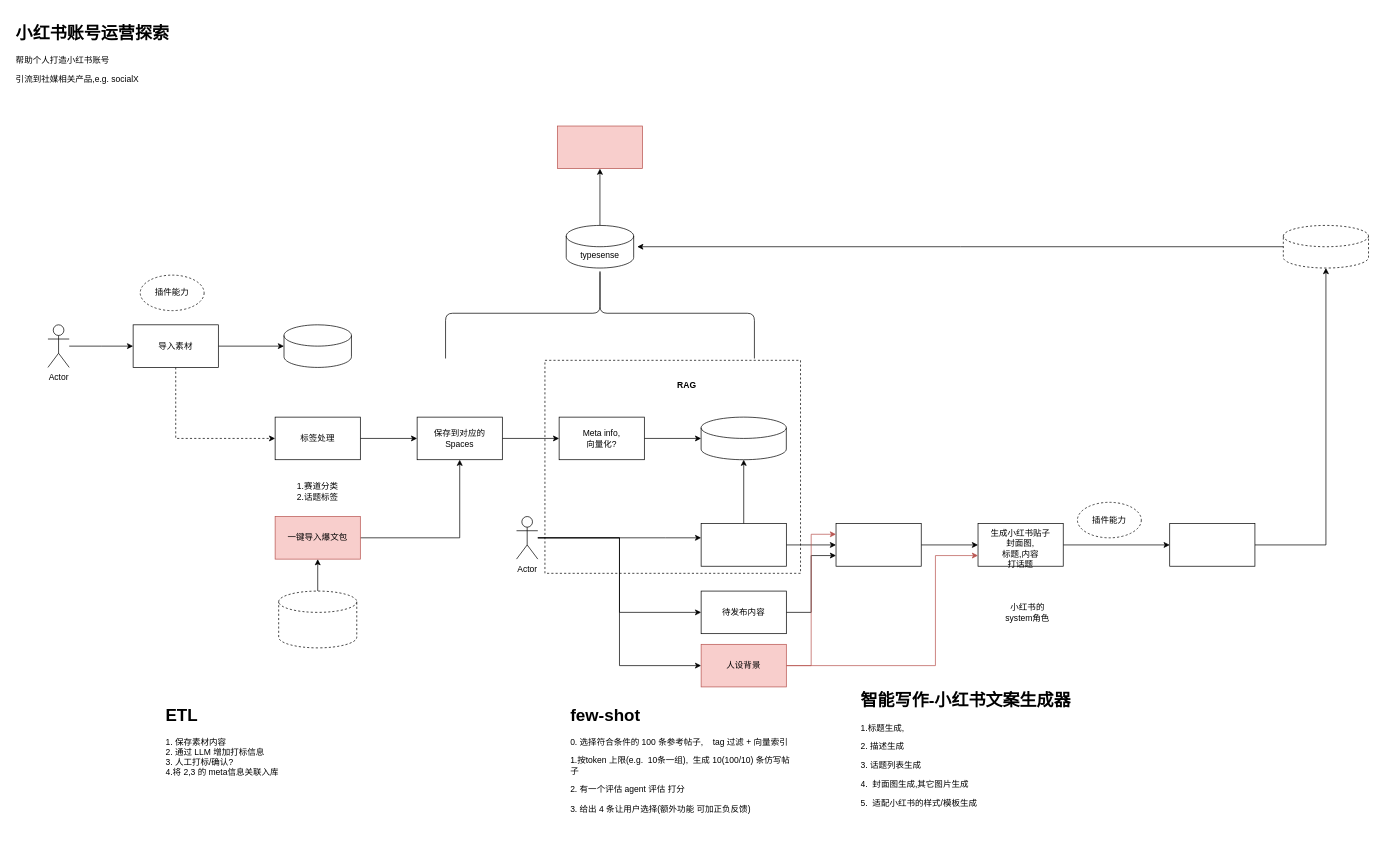
Image size: 1381x841. Some labels were removed from this diagram. Here are the shapes that lost their labels. From the top down, the centre of each, then its label:
At [600,147]: "运营后台".
At [317,345]: "Raw DB".
At [743,544]: "问答/创作".
At [878,544]: "生成 note".
At [1212,544]: "发布 小红书".
At [317,619]: "社媒库".
